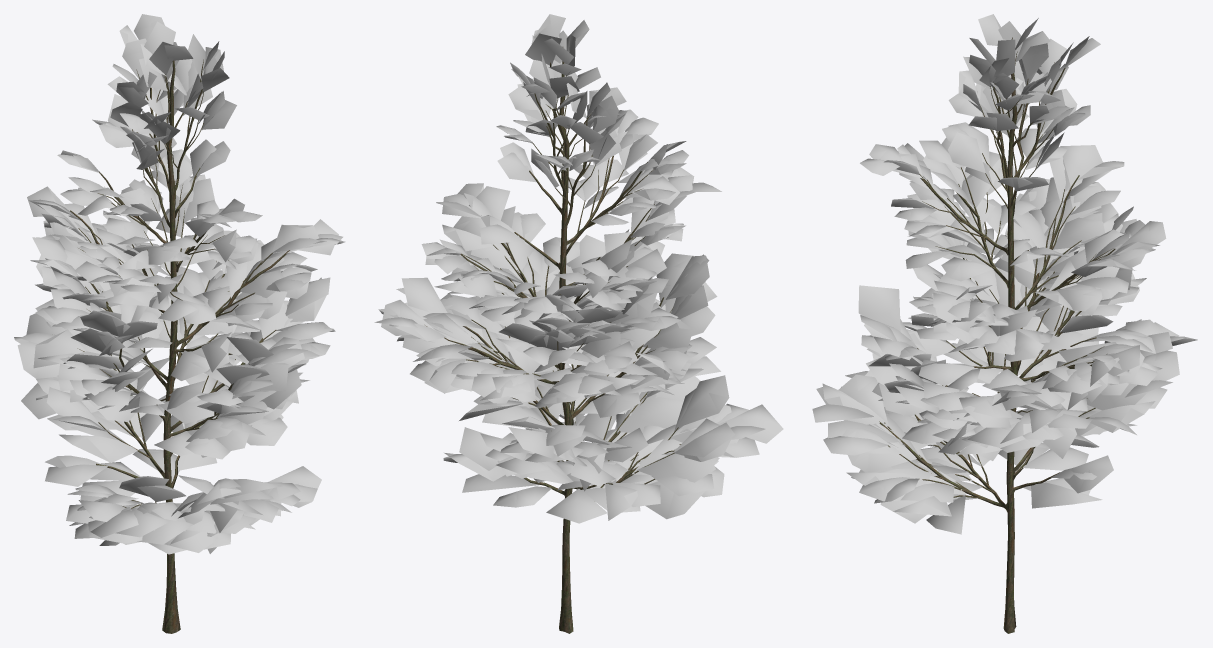
The model's file is Tree_Sm_07_1_L1.fbx.
3 renders of one model, left to right at view 1: azimuth 30°, elevation 25°; view 2: azimuth 150°, elevation 25°; view 3: azimuth 270°, elevation 25°, orthographic. The views are drawn at different scales.
Parts seen in each view (by area): view 1: polySurface36; view 2: polySurface36; view 3: polySurface36.
Part boxes in pixels (box(x1,y1,x2,y2)): polySurface36: box(14, 14, 345, 633); polySurface36: box(374, 14, 783, 633); polySurface36: box(812, 14, 1197, 633).
Bounding box in the file's own units: 352 × 662 × 379.
